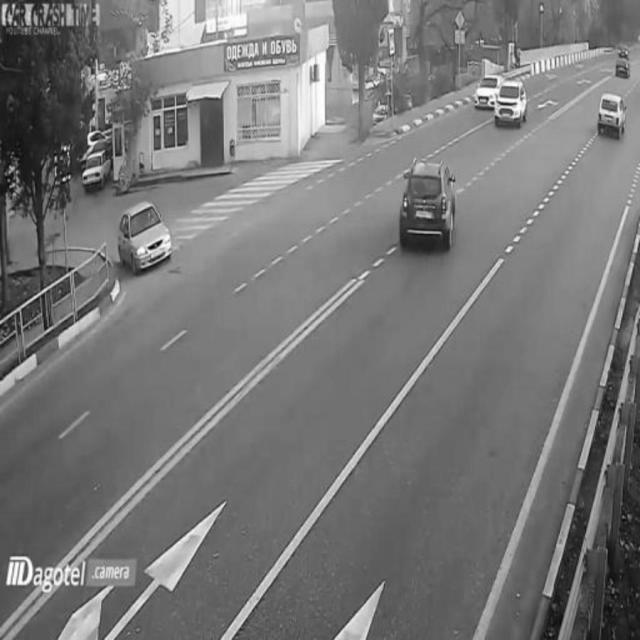vehicle: (398, 155, 456, 253), (115, 204, 176, 272), (492, 75, 529, 129), (80, 146, 112, 194), (597, 91, 627, 141), (469, 71, 499, 113), (614, 42, 634, 82)
